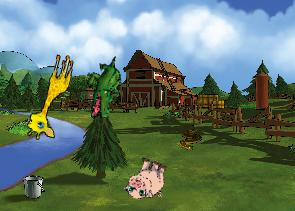crocodile: (82, 56, 126, 120)
giraffe: (23, 49, 76, 143)
pig: (122, 153, 171, 205)
